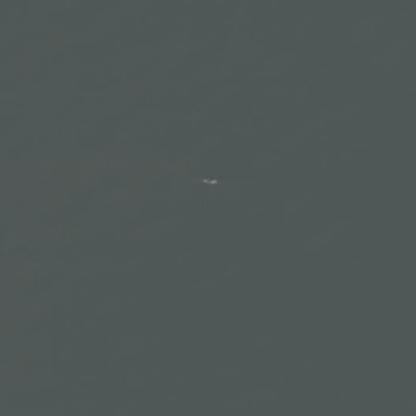ship: (198, 8, 219, 19)
